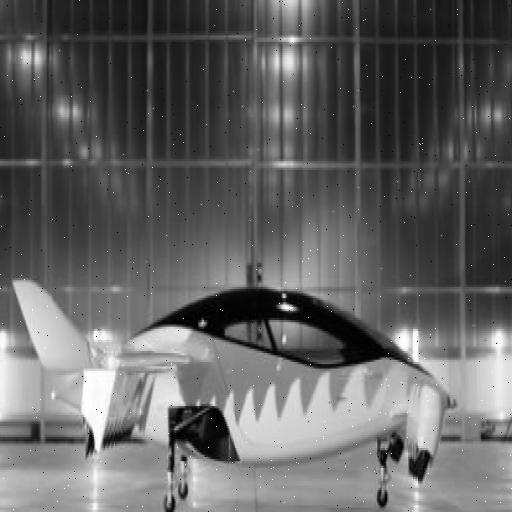helicopter: (11, 275, 460, 511)
